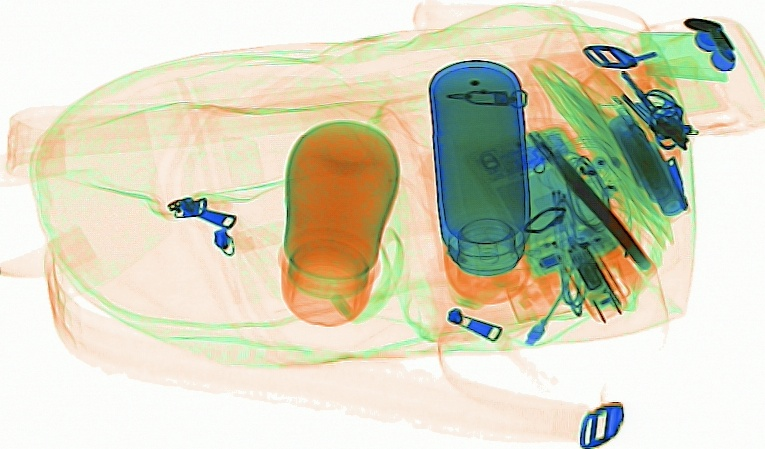powerbank: (603, 109, 688, 219)
